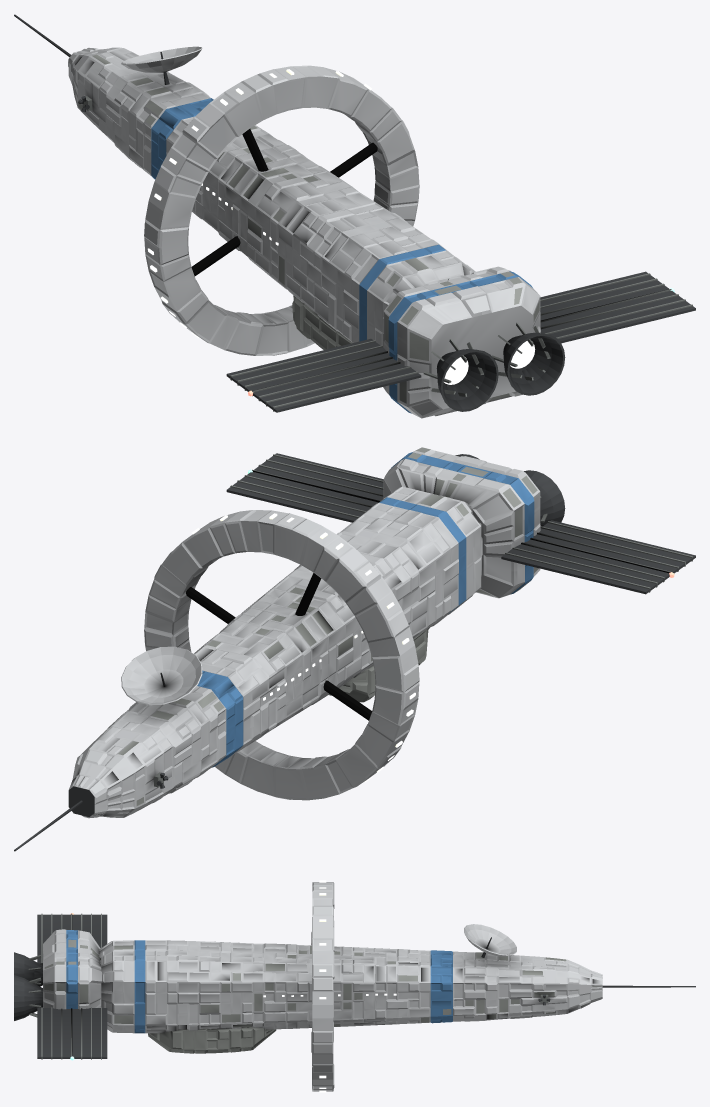
File: survey.glb
3 renders of one model, top to bottom at view 1: azimuth 30°, elevation 25°; view 2: azimuth 150°, elevation 25°; view 3: azimuth 270°, elevation 25°, orthographic. The views are drawn at different scales.
Visible parts, largest first — view 1: body; view 2: body; view 3: body.
Part boxes in pixels (left/top/right/bottom): body: left=14, top=14, right=695, bottom=418; body: left=14, top=447, right=695, bottom=851; body: left=14, top=880, right=695, bottom=1092.
Bounding box in the file's own units: 0.5892 × 0.3641 × 1.17.
